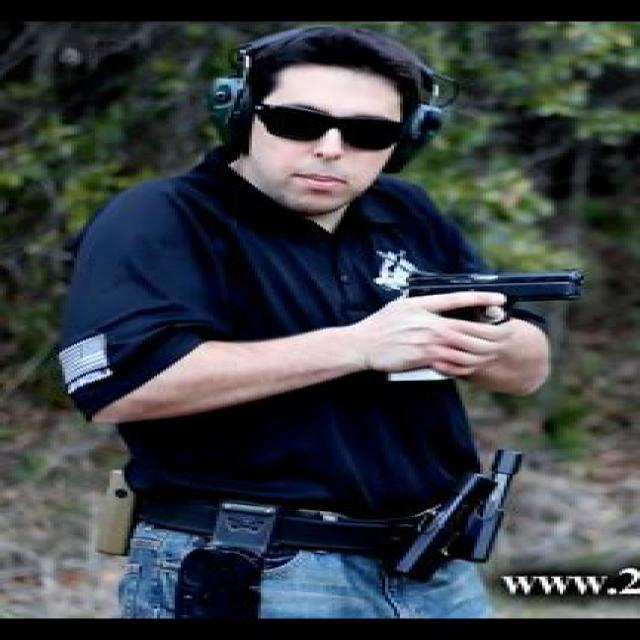gun: (394, 265, 590, 385)
